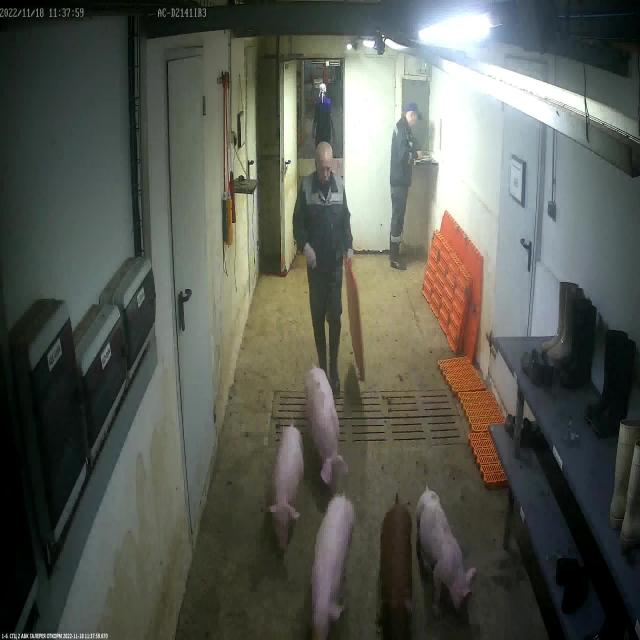pig: (414, 490, 475, 621), (380, 502, 424, 640), (312, 496, 354, 640), (306, 368, 346, 497), (269, 425, 306, 554)
